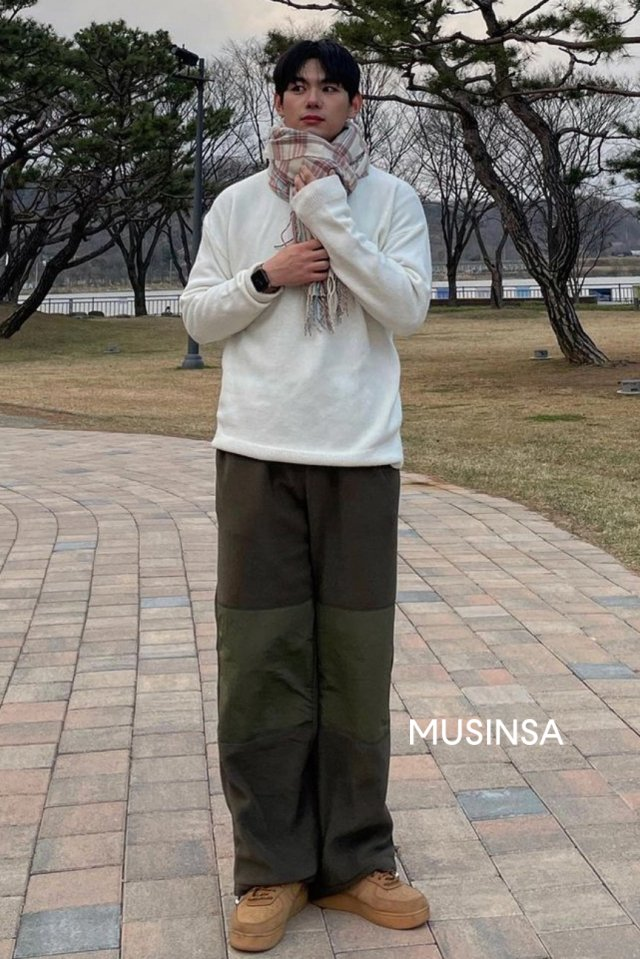Accessories: (252, 261, 277, 297)
Muffler: (264, 117, 366, 321)
Pants: (208, 435, 414, 889)
Shoes: (216, 867, 436, 955)
Sweatshirt: (188, 160, 428, 470)
